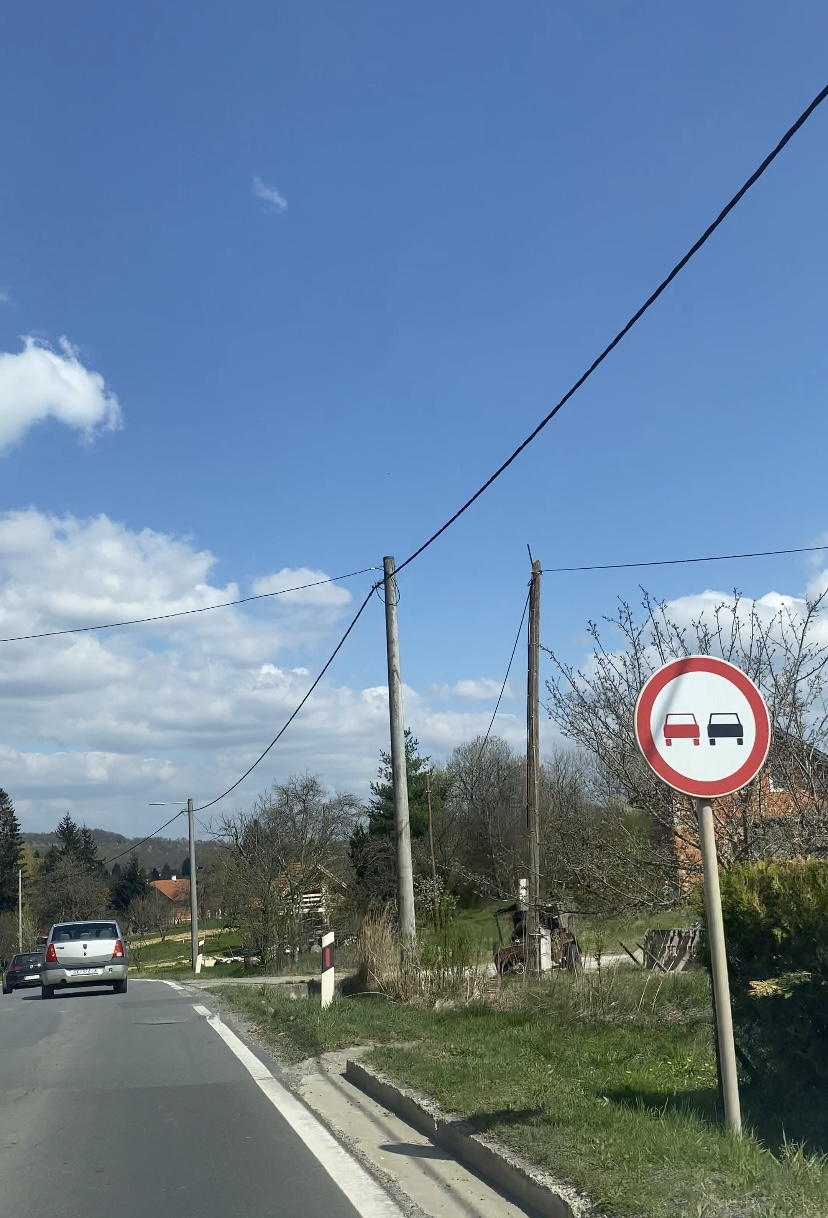Zabrana pretjecanja: (634, 655, 772, 799)
